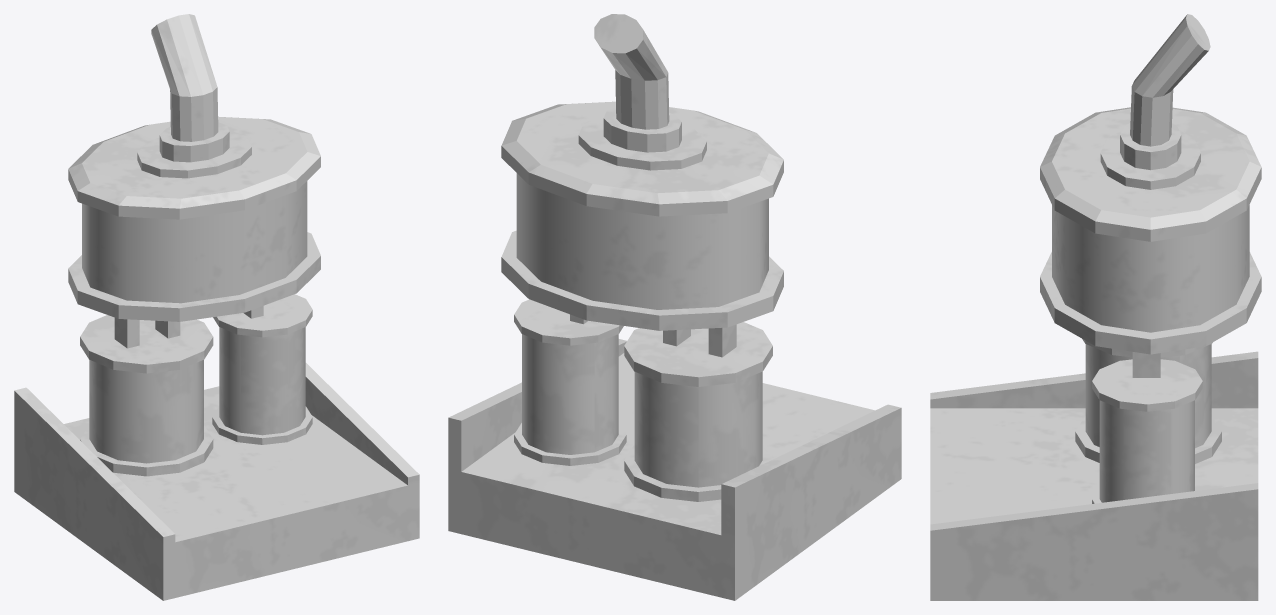
Rendered from Steam Train Parts_A_001.fbx.
3 views of the same model, side by side, from view 1: azimuth 30°, elevation 25°; view 2: azimuth 150°, elevation 25°; view 3: azimuth 270°, elevation 25° (orthographic). The views are drawn at different scales.
Visible parts, largest first — view 1: Steam_Train_Parts_A_001; view 2: Steam_Train_Parts_A_001; view 3: Steam_Train_Parts_A_001.
Part boxes in pixels (x1,y1,x2,y2): Steam_Train_Parts_A_001: (14,14,419,600); Steam_Train_Parts_A_001: (448,14,901,600); Steam_Train_Parts_A_001: (930,14,1261,600).
Size of the model in its own units: 33.06 by 57.74 by 33.59.
Materials: 1 (1 with a texture image).
